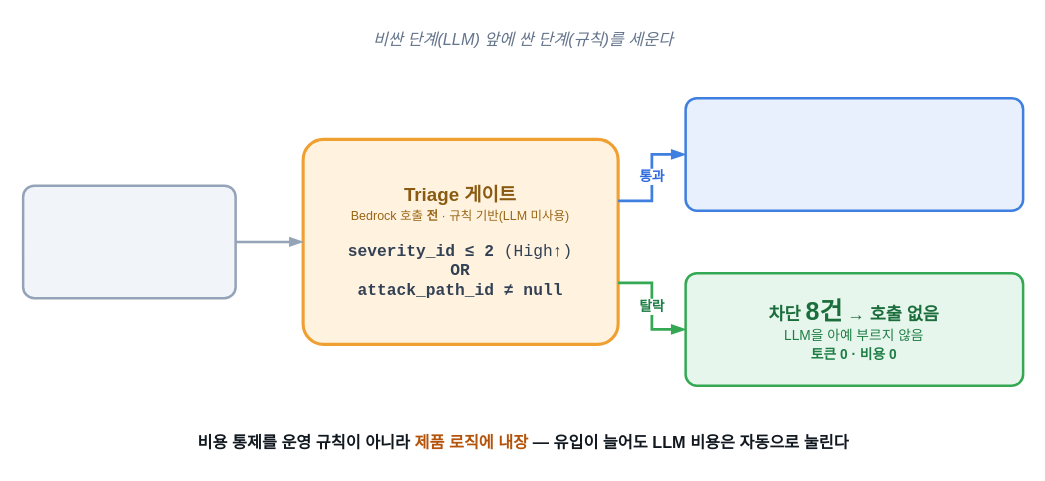
Image size: 1045x481. Some labels were removed from this diagram. The centre of each missing label's shape, as x and y in pixels:
"스캐너 findings 20건 CSPM·CIEM·취약점·KSPM" goes at point (128, 241).
"승급 12건 → Bedrock 조사 실 tool-use(read-only API 자율 호출) 조사 1건 ≈ 100원 (Haiku 토큰 실측)" goes at point (854, 153).
